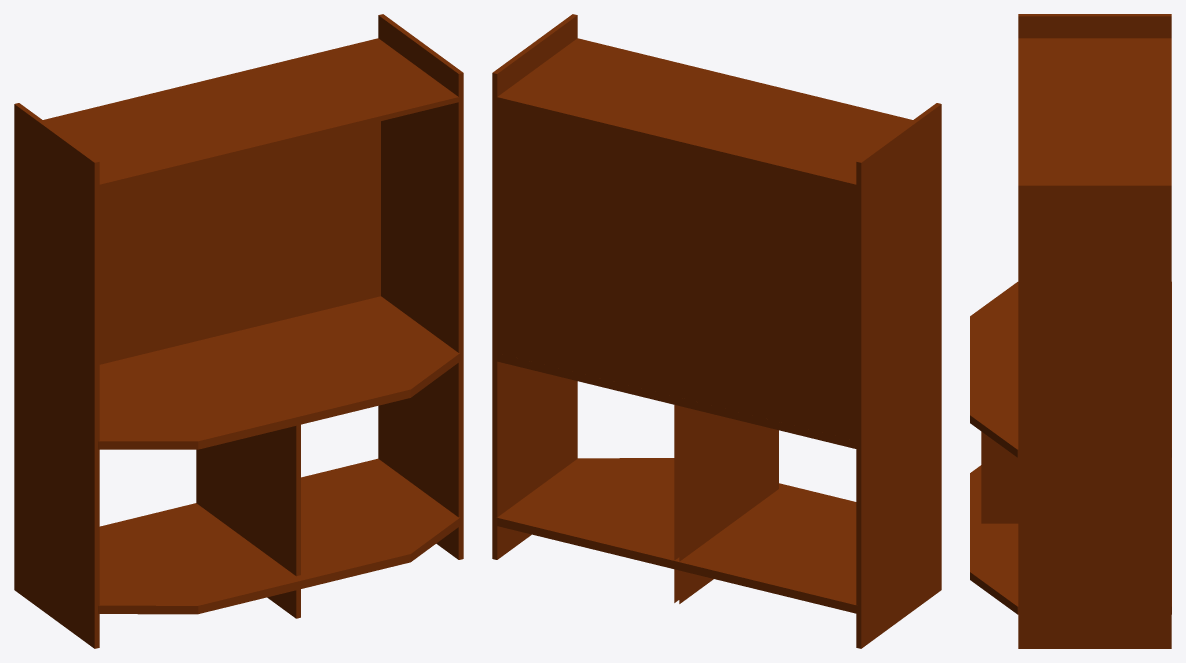
Rendered from SM_TV_Console.fbx.
3 renders of one model, left to right at view 1: azimuth 30°, elevation 25°; view 2: azimuth 150°, elevation 25°; view 3: azimuth 270°, elevation 25°, orthographic. The views are drawn at different scales.
Parts seen in each view (by area): view 1: SM_TV_Console; view 2: SM_TV_Console; view 3: SM_TV_Console.
Boxes of the visible parts, left/top/right/bottom form: SM_TV_Console: left=14, top=14, right=463, bottom=648; SM_TV_Console: left=492, top=14, right=941, bottom=648; SM_TV_Console: left=970, top=14, right=1171, bottom=648.
Bounding box in the file's own units: 151 × 190 × 75.
